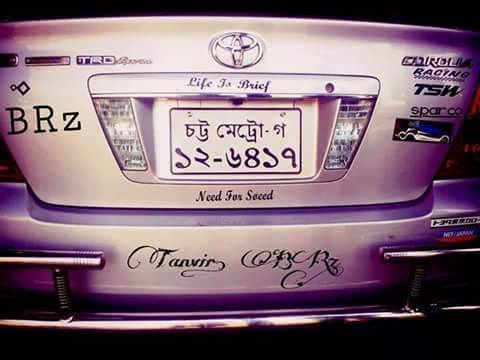registration_plate: (169, 106, 303, 175)
